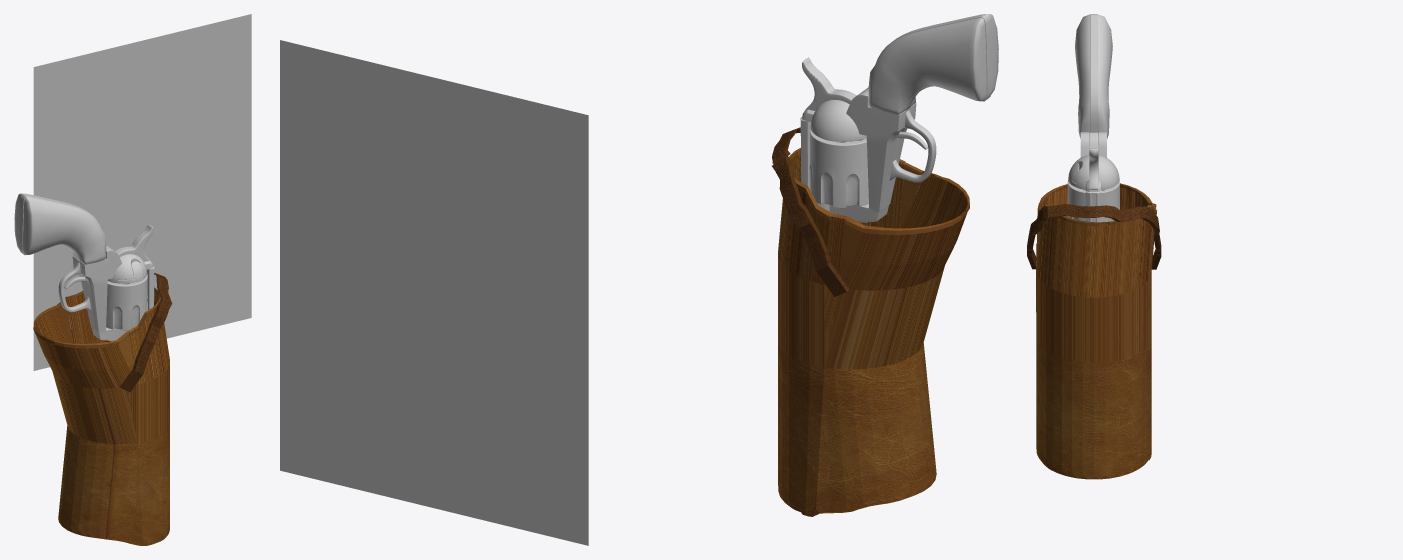
Rendered from holster.fbx.
The picture shows the model from 3 angles, left to right: view 1: azimuth 30°, elevation 25°; view 2: azimuth 150°, elevation 25°; view 3: azimuth 270°, elevation 25°; orthographic projection. The views are drawn at different scales.
Parts seen in each view (by area): view 1: 3342_1, Cylinder.005, Plane, Cylinder.001, Cylinder.002, Plane.002, Circle, Roundcube, Plane.001; view 2: 3342_1, Cylinder.005, Plane, Cylinder.001, Cylinder.002, Plane.002, Roundcube.001, Circle, Plane.001; view 3: Cylinder.005, Plane, Plane.002, Cylinder.001, Cylinder.002, Circle, Roundcube.001.
Part boxes in pixels (bbox=[...]): 3342_1: bbox=[33, 14, 251, 370]; Cylinder.005: bbox=[33, 287, 169, 545]; Plane: bbox=[14, 193, 106, 264]; Cylinder.001: bbox=[72, 245, 154, 341]; Cylinder.002: bbox=[106, 274, 147, 330]; Plane.002: bbox=[71, 273, 172, 392]; Circle: bbox=[106, 224, 153, 263]; Roundcube: bbox=[108, 254, 147, 283]; Plane.001: bbox=[58, 261, 91, 312]; 3342_1: bbox=[280, 40, 588, 545]; Cylinder.005: bbox=[778, 148, 969, 516]; Plane: bbox=[868, 14, 998, 114]; Cylinder.001: bbox=[800, 87, 916, 222]; Cylinder.002: bbox=[809, 129, 868, 208]; Plane.002: bbox=[772, 127, 903, 296]; Roundcube.001: bbox=[810, 100, 866, 141]; Circle: bbox=[802, 57, 868, 113]; Plane.001: bbox=[889, 110, 936, 182]; Cylinder.005: bbox=[1036, 183, 1157, 479]; Plane: bbox=[1075, 14, 1112, 138]; Plane.002: bbox=[1027, 204, 1161, 269]; Cylinder.001: bbox=[1080, 132, 1106, 222]; Cylinder.002: bbox=[1067, 180, 1119, 221]; Circle: bbox=[1089, 132, 1098, 189]; Roundcube.001: bbox=[1098, 155, 1119, 189].
Size of the model in its own units: 509 by 477 by 399.
